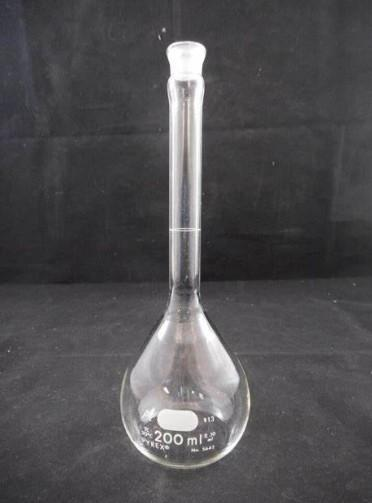Volumetric flask: (117, 41, 254, 470)
